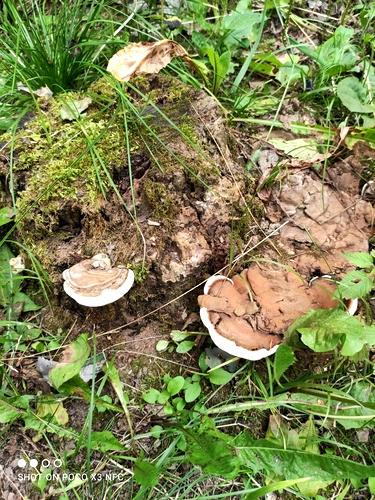Ganoderma - Fruit Body: (199, 257, 364, 359), (64, 252, 134, 312)
